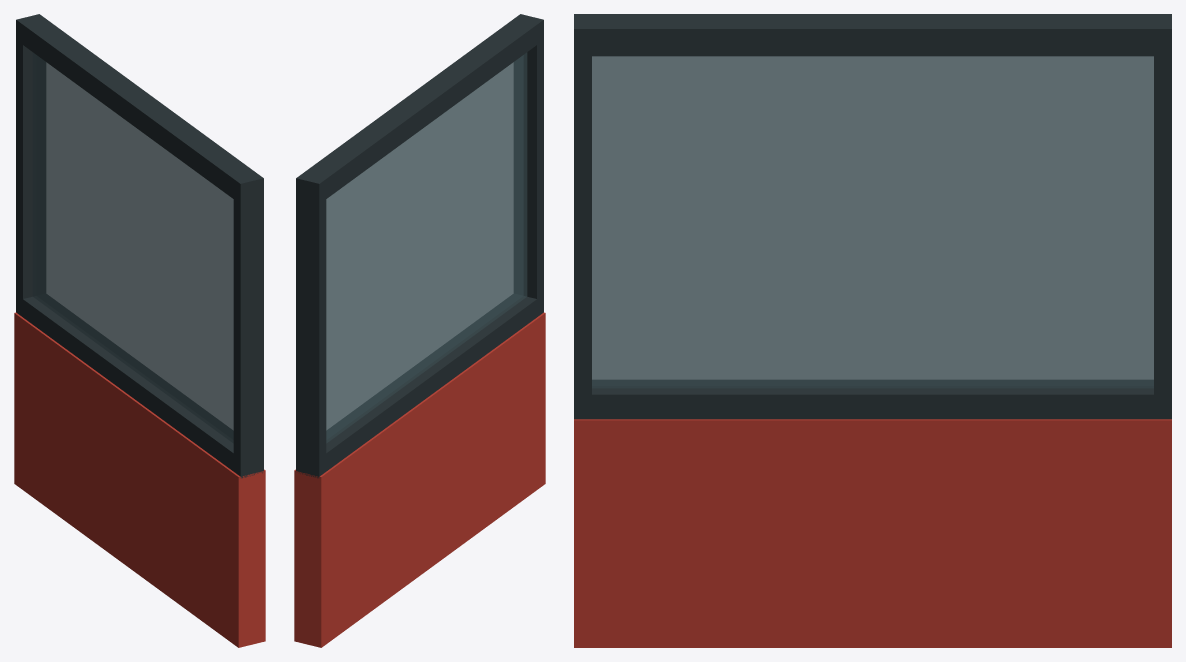
Rendered from ferry_bridge_side_2m.glb.
The picture shows the model from 3 angles, left to right: view 1: azimuth 30°, elevation 25°; view 2: azimuth 150°, elevation 25°; view 3: azimuth 270°, elevation 25°; orthographic projection. The views are drawn at different scales.
Visible parts, largest first — view 1: ferry_bridge_side_2m__Optical ferry glass, ferry_bridge_side_2m__Paint_Fascia, ferry_bridge_side_2m__Fixed_BlackHousing; view 2: ferry_bridge_side_2m__Optical ferry glass, ferry_bridge_side_2m__Paint_Fascia, ferry_bridge_side_2m__Fixed_BlackHousing; view 3: ferry_bridge_side_2m__Optical ferry glass, ferry_bridge_side_2m__Paint_Fascia, ferry_bridge_side_2m__Fixed_BlackHousing.
Boxes of the visible parts, left/top/right/bottom form: ferry_bridge_side_2m__Optical ferry glass: left=32, top=52, right=233, bottom=443; ferry_bridge_side_2m__Paint_Fascia: left=14, top=312, right=265, bottom=647; ferry_bridge_side_2m__Fixed_BlackHousing: left=16, top=14, right=263, bottom=478; ferry_bridge_side_2m__Optical ferry glass: left=326, top=52, right=527, bottom=443; ferry_bridge_side_2m__Paint_Fascia: left=294, top=312, right=545, bottom=647; ferry_bridge_side_2m__Fixed_BlackHousing: left=296, top=14, right=543, bottom=478; ferry_bridge_side_2m__Optical ferry glass: left=592, top=56, right=1153, bottom=388; ferry_bridge_side_2m__Paint_Fascia: left=574, top=419, right=1171, bottom=647; ferry_bridge_side_2m__Fixed_BlackHousing: left=574, top=14, right=1171, bottom=419.
Size of the model in its own units: 0.14 by 2.28 by 2.
